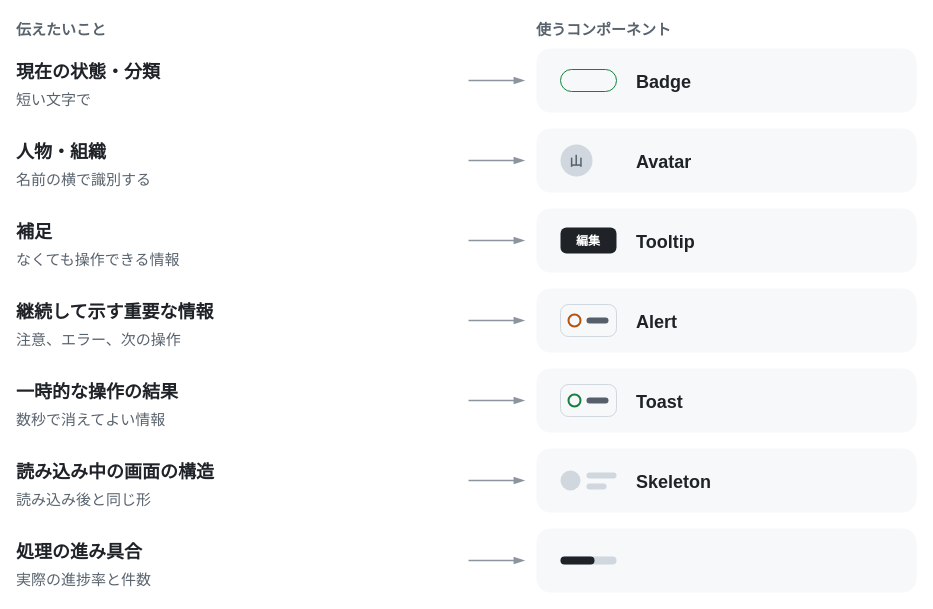
The diagram is 933 pixels wide and 609 high, and some of its shapes have lost their labels. The shapes that lost their labels are listed below. From the top down, each one's centre as x and y in pixels, then its label:
At point 588,80: "完了".
At point 726,560: "Progress".
